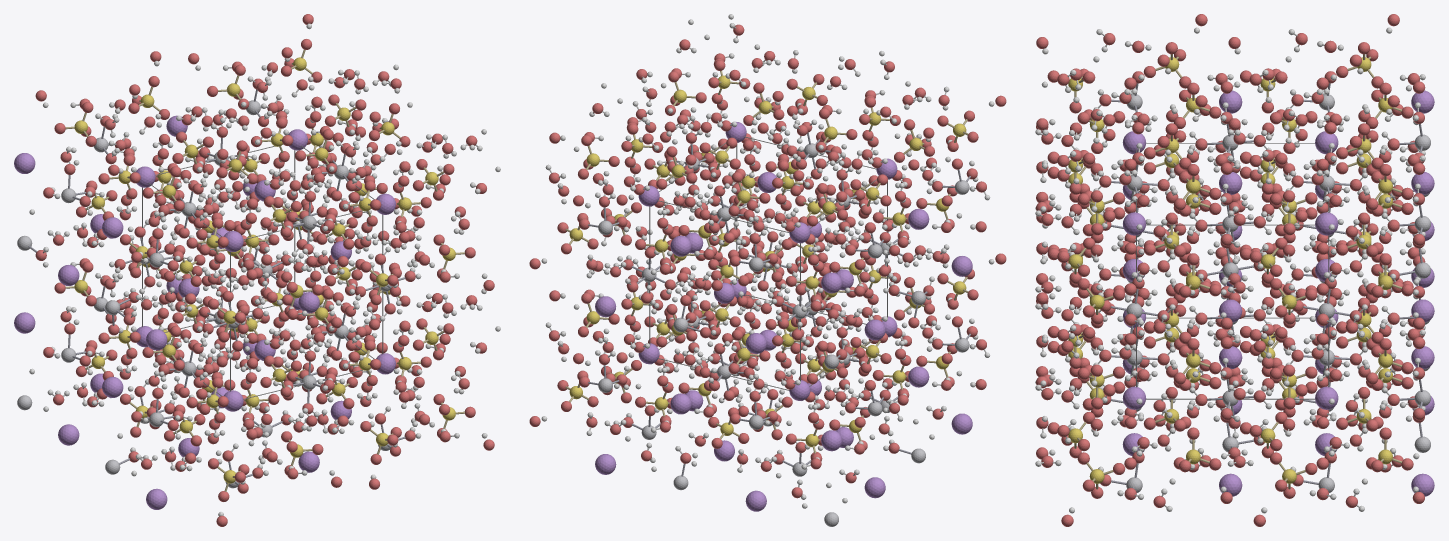
Rendered from Hydrated_alum_KAl_SO4_2_12H2O_from_CIF.glb.
3 views of the same model, side by side, from view 1: azimuth 30°, elevation 25°; view 2: azimuth 150°, elevation 25°; view 3: azimuth 270°, elevation 25° (orthographic). The views are drawn at different scales.
Parts seen in each view (by area): view 1: O_atoms, H_atoms, K_atoms, bonds, S_atoms, Al_atoms, unit_cell_outline; view 2: O_atoms, H_atoms, K_atoms, bonds, S_atoms, Al_atoms, unit_cell_outline; view 3: O_atoms, H_atoms, K_atoms, bonds, S_atoms, Al_atoms, unit_cell_outline.
Part boxes in pixels (x1=…): O_atoms: x1=35, y1=14, x2=494, y2=526; H_atoms: x1=29, y1=23, x2=500, y2=516; K_atoms: x1=14, y1=115, x2=395, y2=509; bonds: x1=28, y1=49, x2=485, y2=491; S_atoms: x1=74, y1=57, x2=455, y2=483; Al_atoms: x1=17, y1=100, x2=392, y2=488; unit_cell_outline: x1=142, y1=144, x2=383, y2=399; O_atoms: x1=529, y1=24, x2=1006, y2=498; H_atoms: x1=541, y1=14, x2=994, y2=508; K_atoms: x1=595, y1=122, x2=972, y2=511; bonds: x1=549, y1=27, x2=986, y2=496; S_atoms: x1=569, y1=75, x2=966, y2=447; Al_atoms: x1=598, y1=143, x2=969, y2=526; unit_cell_outline: x1=649, y1=136, x2=887, y2=390; O_atoms: x1=1036, y1=14, x2=1425, y2=526; H_atoms: x1=1035, y1=27, x2=1425, y2=513; K_atoms: x1=1122, y1=90, x2=1434, y2=496; bonds: x1=1040, y1=33, x2=1422, y2=507; S_atoms: x1=1068, y1=57, x2=1392, y2=483; Al_atoms: x1=1126, y1=94, x2=1430, y2=492; unit_cell_outline: x1=1136, y1=143, x2=1329, y2=399.
Bounding box in the file's own units: 25.2 × 25.2 × 25.2.
